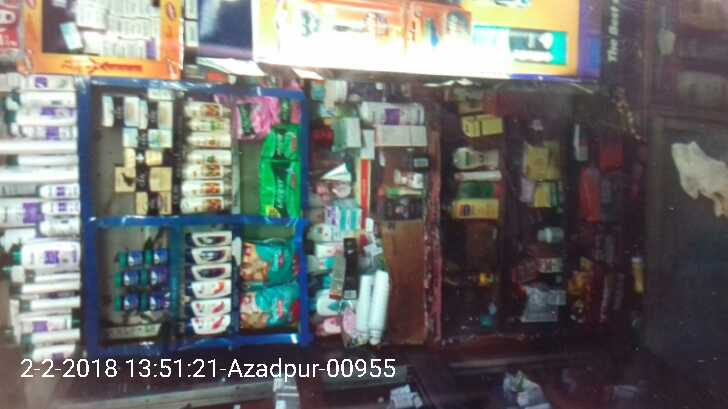vicks: (117, 246, 168, 314)
